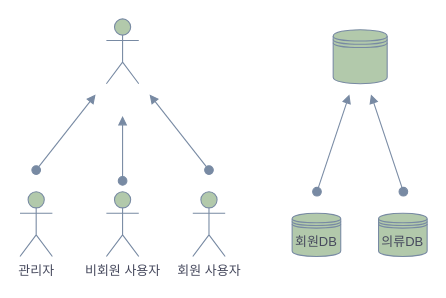
Image size: 446x298. Some labels were removed from this diagram. The shapes that lost their labels are listed below. From the top down, each one's centre as x and y in pixels, then its label:
At (x=122, y=51): "사용자".
At (x=359, y=56): "DB".
